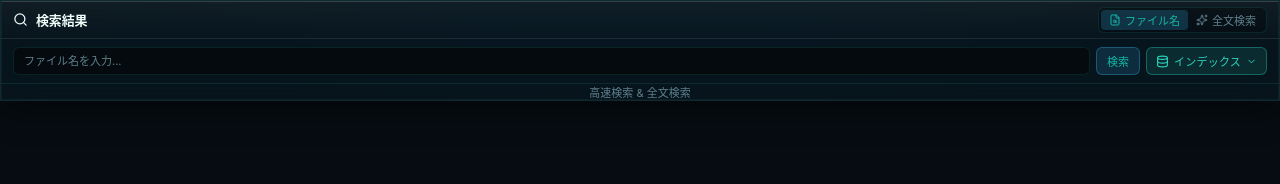
Test: SearchPanel with Explicit Indexing Dropdown › switches to fulltext search tab and executes query
Click the button titled "全文検索".
click(1226, 20)  # box left=1188, top=10, right=1264, bottom=30
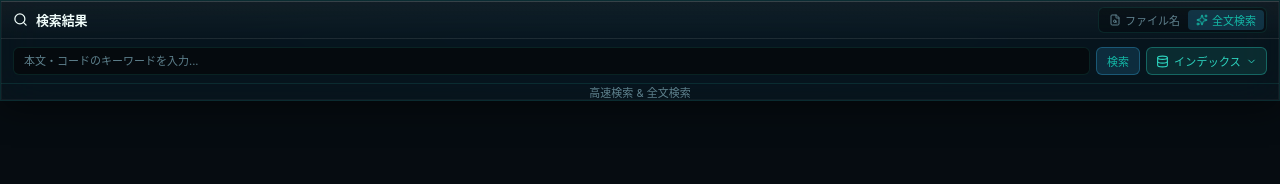
Type "Landlock" into the field with placeholder "本文・コードのキーワードを入力...".
click(552, 61); type("Landlock")  # box left=13, top=47, right=1090, bottom=75
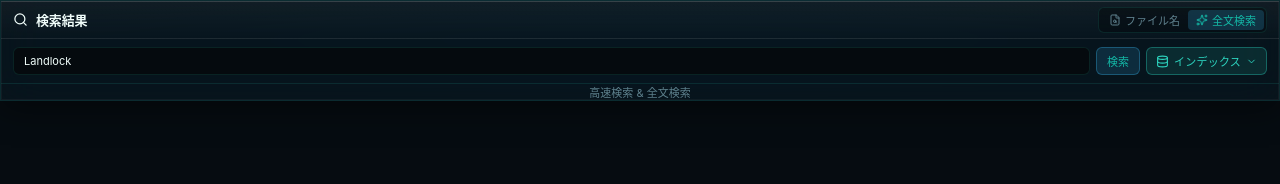
Click the button "検索".
click(1118, 61)  # box left=1096, top=47, right=1140, bottom=75
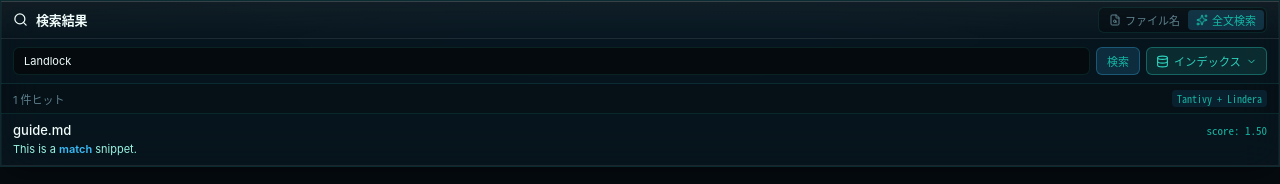
Result: the text "guide.md" is shown at left=13, top=122, right=71, bottom=138
